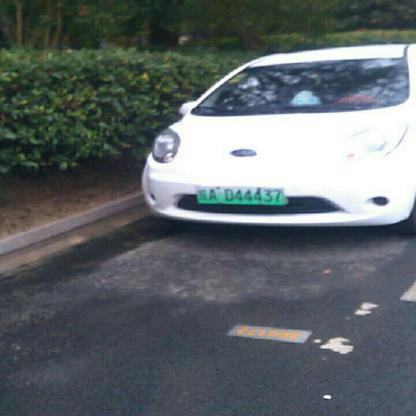lp: (198, 186, 284, 204)
